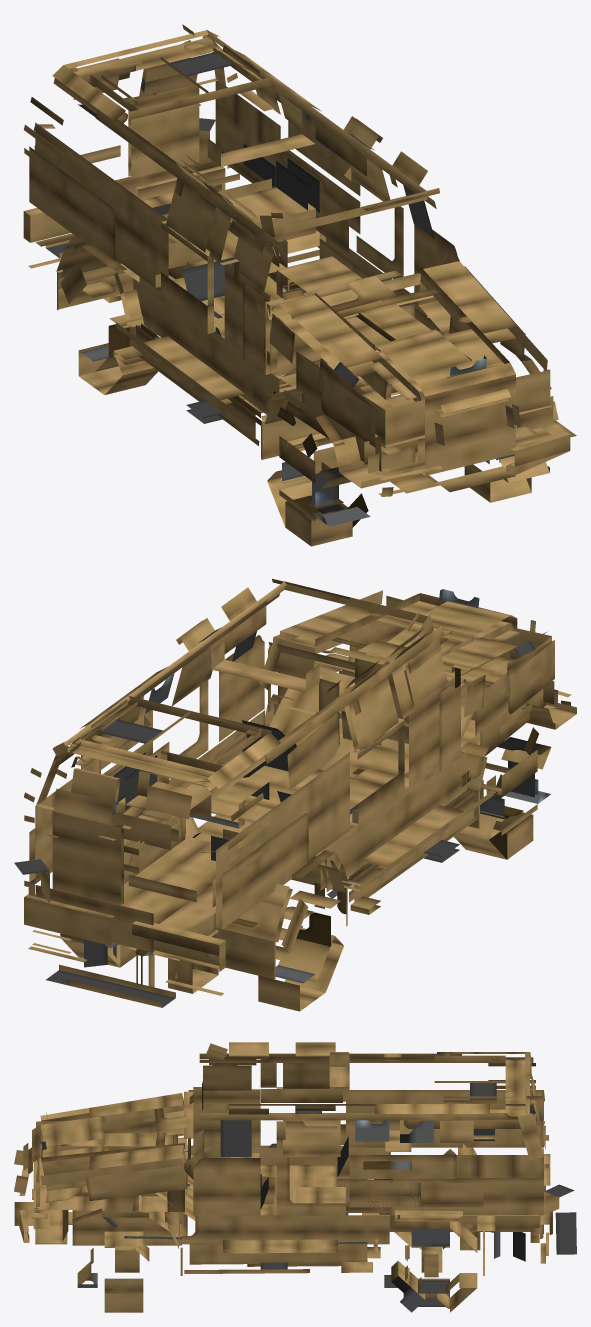
Rendered from kozak2.obj.
3 renders of one model, top to bottom at view 1: azimuth 30°, elevation 25°; view 2: azimuth 150°, elevation 25°; view 3: azimuth 270°, elevation 25°, orthographic. The views are drawn at different scales.
Visible parts, largest first — view 1: body, w1, w2, w3; view 2: body, w1, w2, w4; view 3: body, w4, w3.
Boxes of the visible parts, box(x1,y1,x2,y2) form: body: box(23, 24, 576, 496); w1: box(267, 433, 370, 546); w2: box(60, 263, 158, 394); w3: box(464, 454, 549, 502); body: box(14, 578, 576, 1007); w1: box(454, 727, 551, 859); w2: box(258, 890, 343, 1011); w4: box(60, 933, 136, 967); body: box(14, 1042, 576, 1275); w4: box(384, 1221, 477, 1312); w3: box(77, 1217, 149, 1312).
Size of the model in its own units: 3.07 by 3.14 by 7.91.
